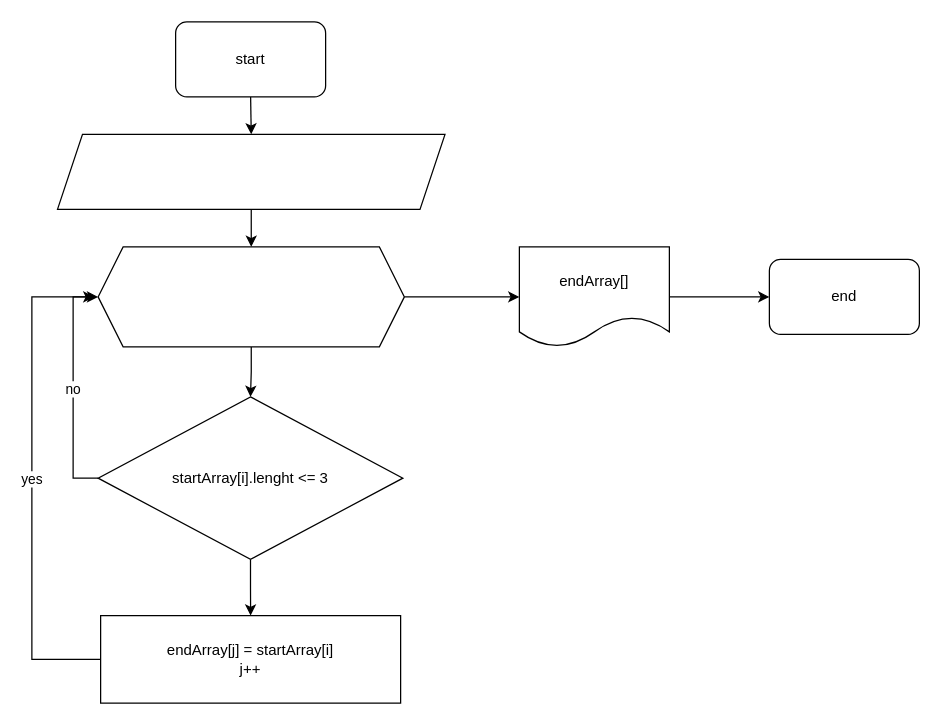
The diagram is 941 pixels wide and 725 high, and some of its shapes have lost their labels. The box of each missing label's shape, as (x1, y1, x2, y2) in pixels:
i = 0, i < startArray.lenght, i++: (97, 246, 404, 347)
startArray=["array", "for", "final", "job", "123"] endArray = [ ] int j = 0: (56, 133, 445, 209)
